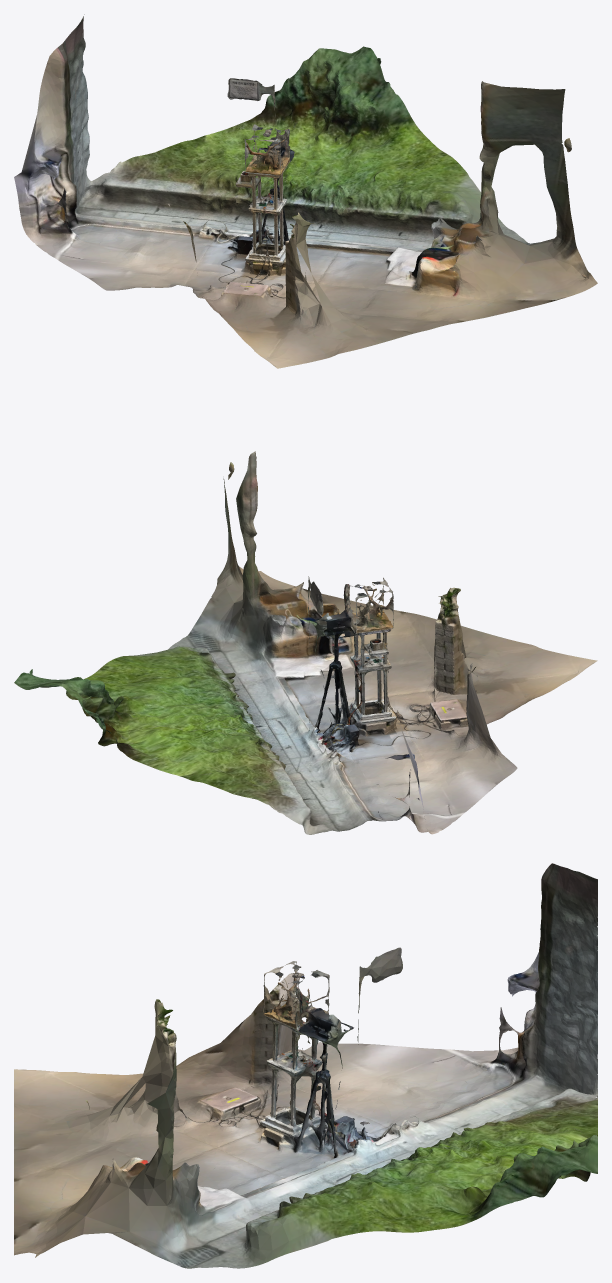
3 views of the same model, one above another, from view 1: azimuth 30°, elevation 25°; view 2: azimuth 150°, elevation 25°; view 3: azimuth 270°, elevation 25° (orthographic). The views are drawn at different scales.
Bounding box in the file's own units: 2.17 × 1.18 × 2.4.
Materials: 1 (1 with a texture image).
